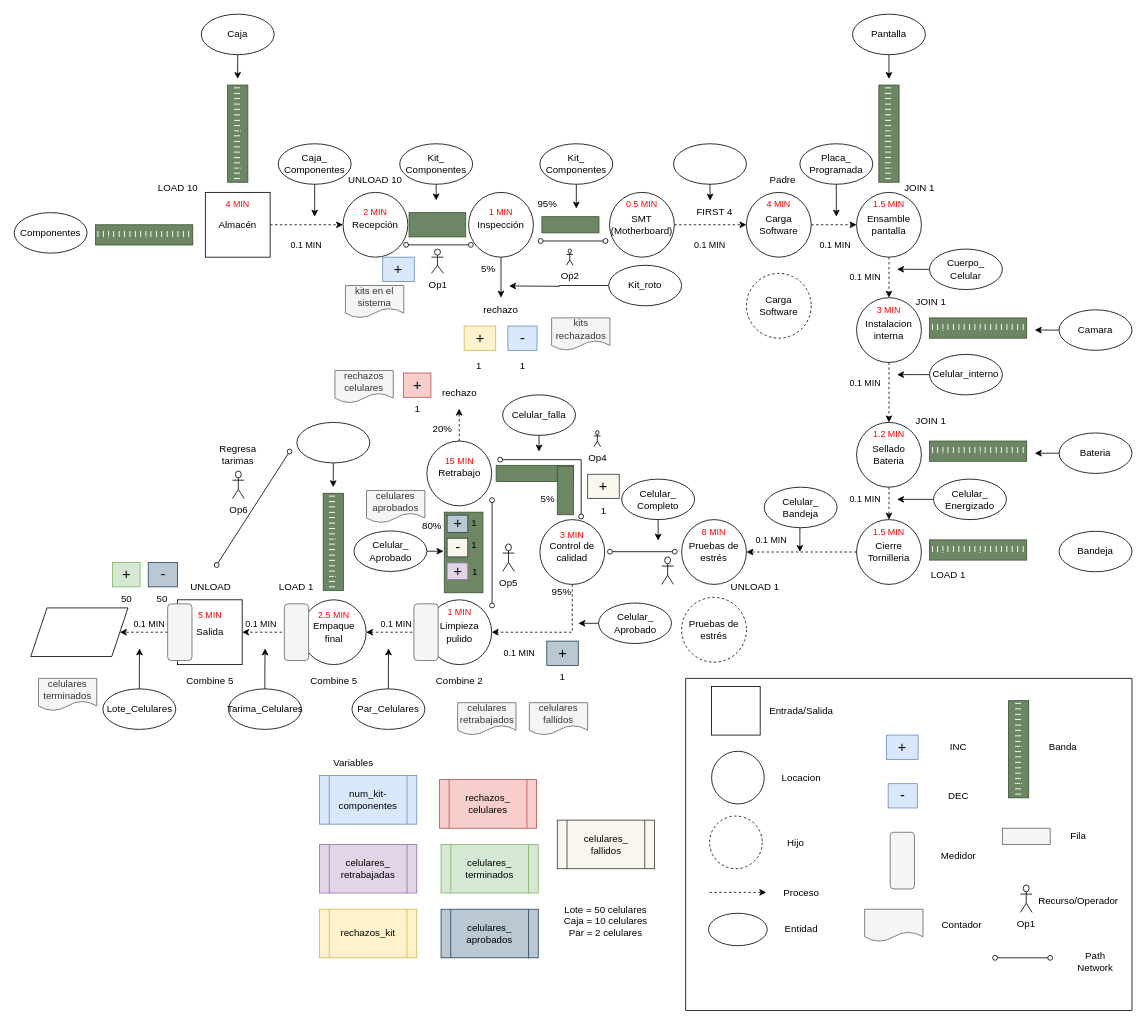
The diagram is 1146 pixels wide and 1025 high, and some of its shapes have lost their labels. The shapes that lost their labels are listed below. From the top down, each one's centre as x and y in pixels, then its label:
the point at 709,163: Placa_Base
the point at 437,224: FIRST 10
the point at 333,442: Tarima
the point at 667,570: Op3
the point at 79,632: EXIT
